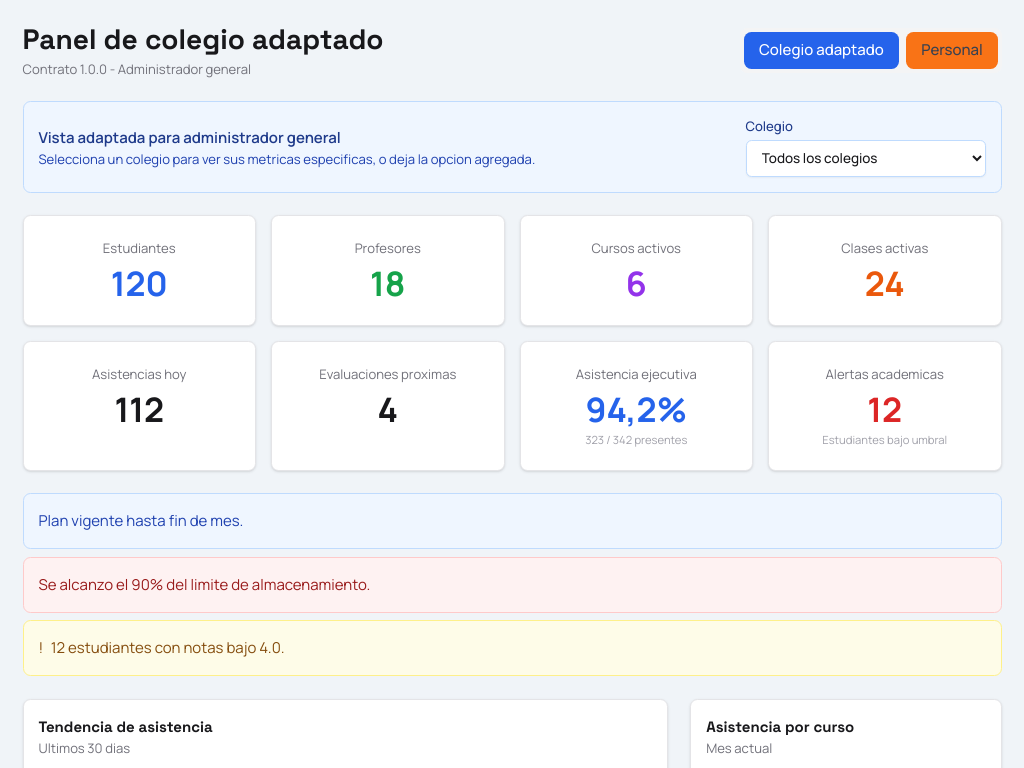
it: DashboardPage › lets global administrators select a school for adapted school metrics
Select "Colegio Norte (101)" in the dropdown labelled "Colegio": {"x": 866, "y": 158} [746,140,986,177]
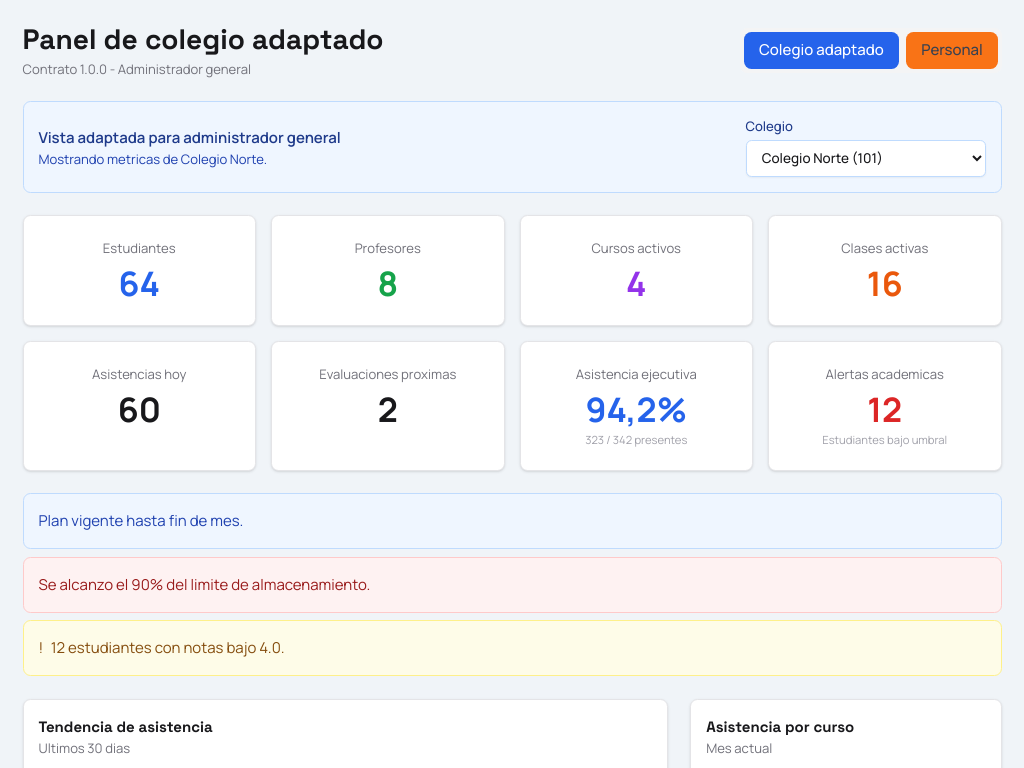
Check: the text "64" is shown, box [118,260,160,306]
